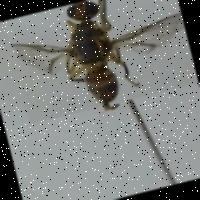Oriental-fruit-fly: (3, 0, 199, 125)
